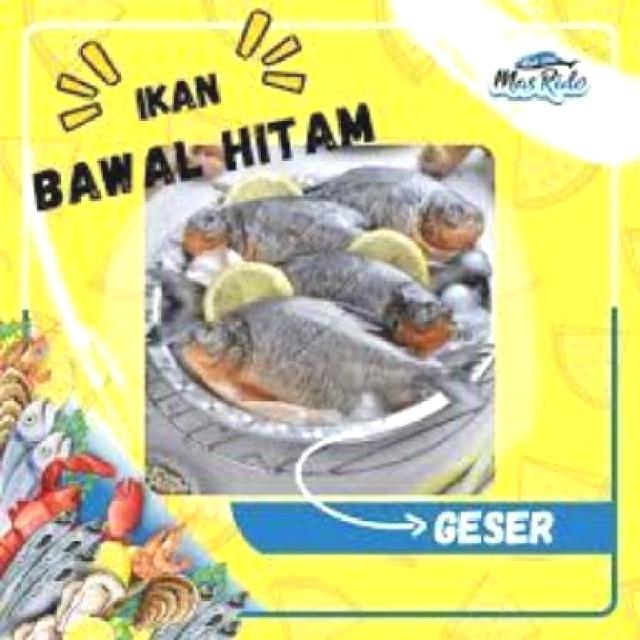ikan-pacu: (190, 287, 487, 421), (316, 159, 484, 259), (288, 250, 460, 347), (182, 193, 366, 272)
